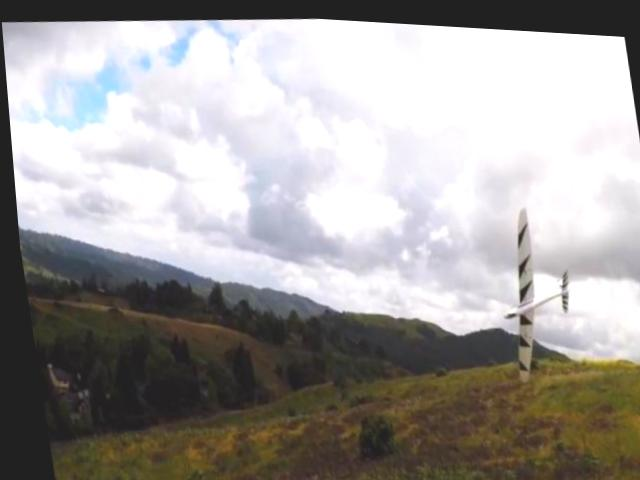iha: (479, 194, 581, 383)
